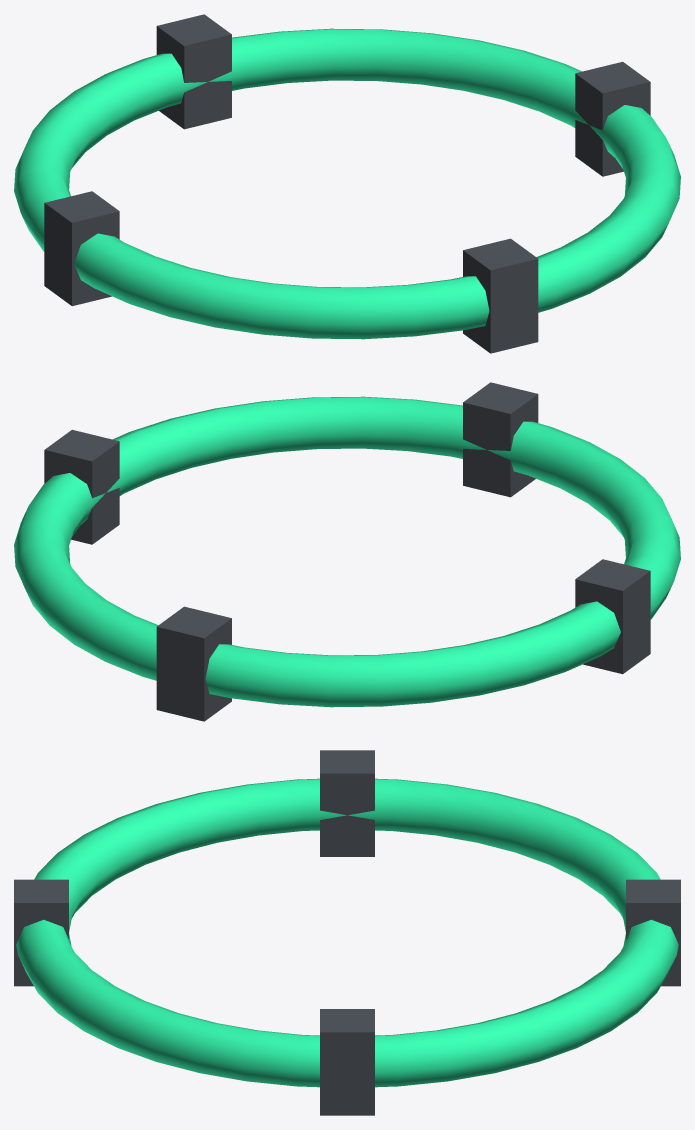
The model's file is aro_control.obj.
3 renders of one model, top to bottom at view 1: azimuth 30°, elevation 25°; view 2: azimuth 150°, elevation 25°; view 3: azimuth 270°, elevation 25°, orthographic.
Parts seen in each view (by area): view 1: Aro_Control; view 2: Aro_Control; view 3: Aro_Control.
Part boxes in pixels (x1=…): Aro_Control: x1=14, y1=14, x2=680, y2=353; Aro_Control: x1=14, y1=382, x2=680, y2=721; Aro_Control: x1=14, y1=750, x2=680, y2=1115.
Size of the model in its own units: 2.18 by 0.3 by 2.18.
